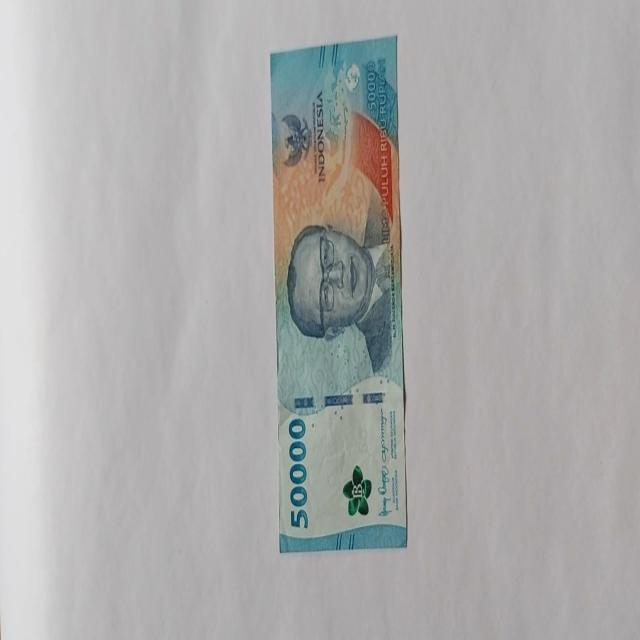lima puluh ribu rupiah: (270, 36, 408, 552)
